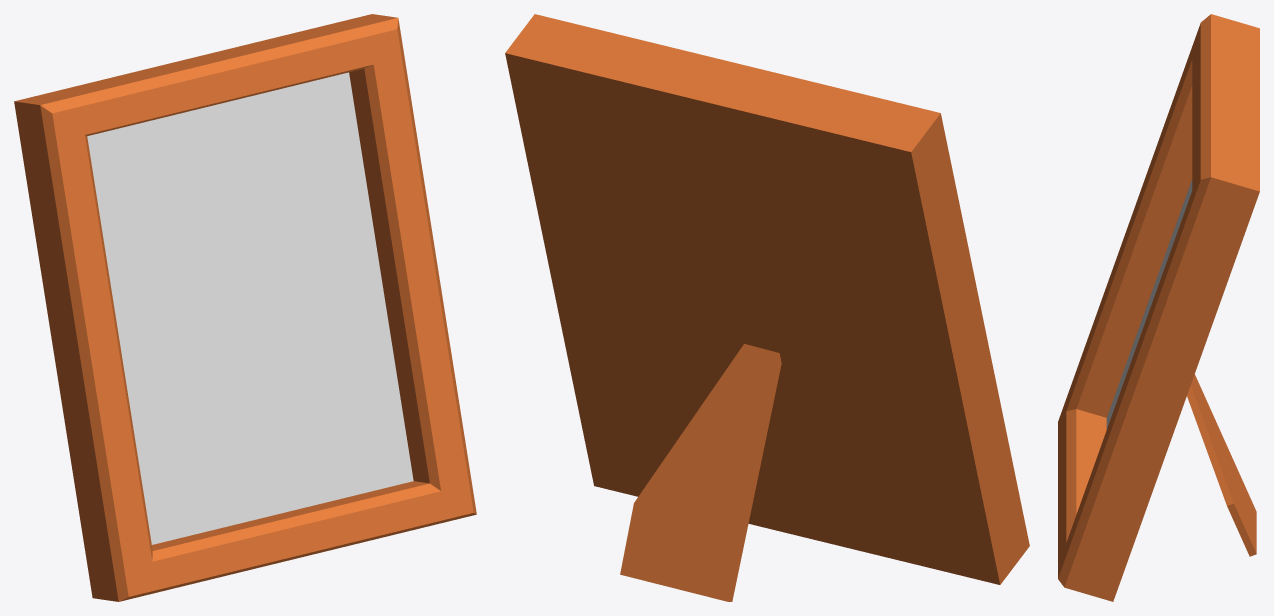
Rendered from photo frame.fbx.
The picture shows the model from 3 angles, left to right: view 1: azimuth 30°, elevation 25°; view 2: azimuth 150°, elevation 25°; view 3: azimuth 270°, elevation 25°; orthographic projection. The views are drawn at different scales.
Visible parts, largest first — view 1: photo frame; view 2: photo frame; view 3: photo frame.
Part boxes in pixels (x1,y1,x2,y2): photo frame: (14, 14, 476, 601); photo frame: (505, 14, 1029, 601); photo frame: (1058, 14, 1259, 601).
Size of the model in its own units: 506 by 615 by 264.
